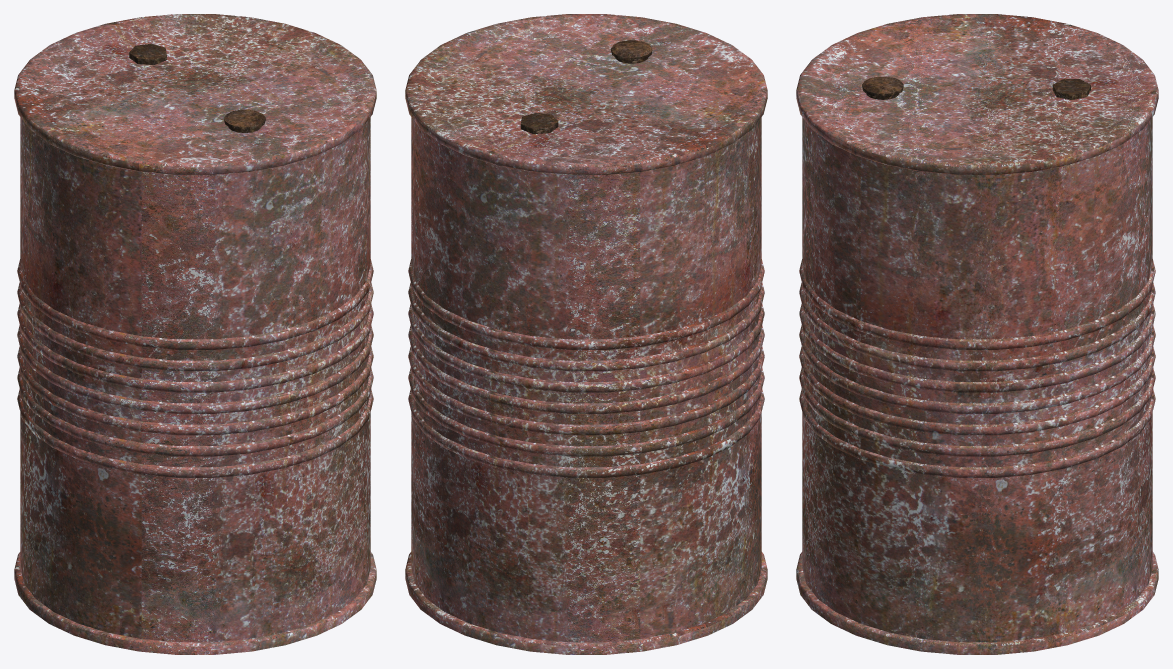
File: RustyBarrel.FBX
3 renders of one model, left to right at view 1: azimuth 30°, elevation 25°; view 2: azimuth 150°, elevation 25°; view 3: azimuth 270°, elevation 25°, orthographic.
Parts seen in each view (by area): view 1: RustyBarrel; view 2: RustyBarrel; view 3: RustyBarrel.
Boxes of the visible parts, x1,y1,x2,y2 form: RustyBarrel: (14, 14, 376, 654); RustyBarrel: (405, 14, 767, 654); RustyBarrel: (796, 14, 1158, 654).
Bounding box in the file's own units: 56.23 × 85.4 × 56.54.
